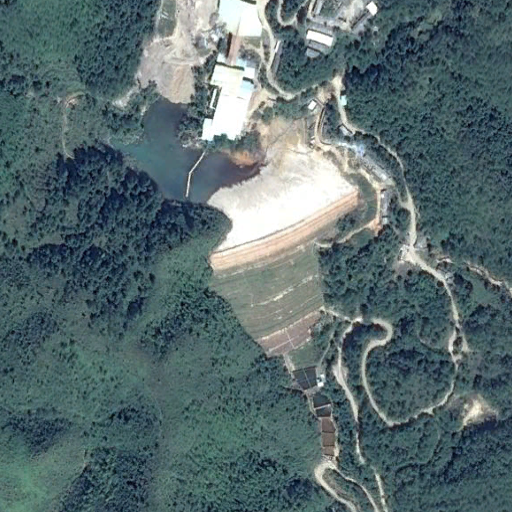tp: (108, 94, 361, 391)
